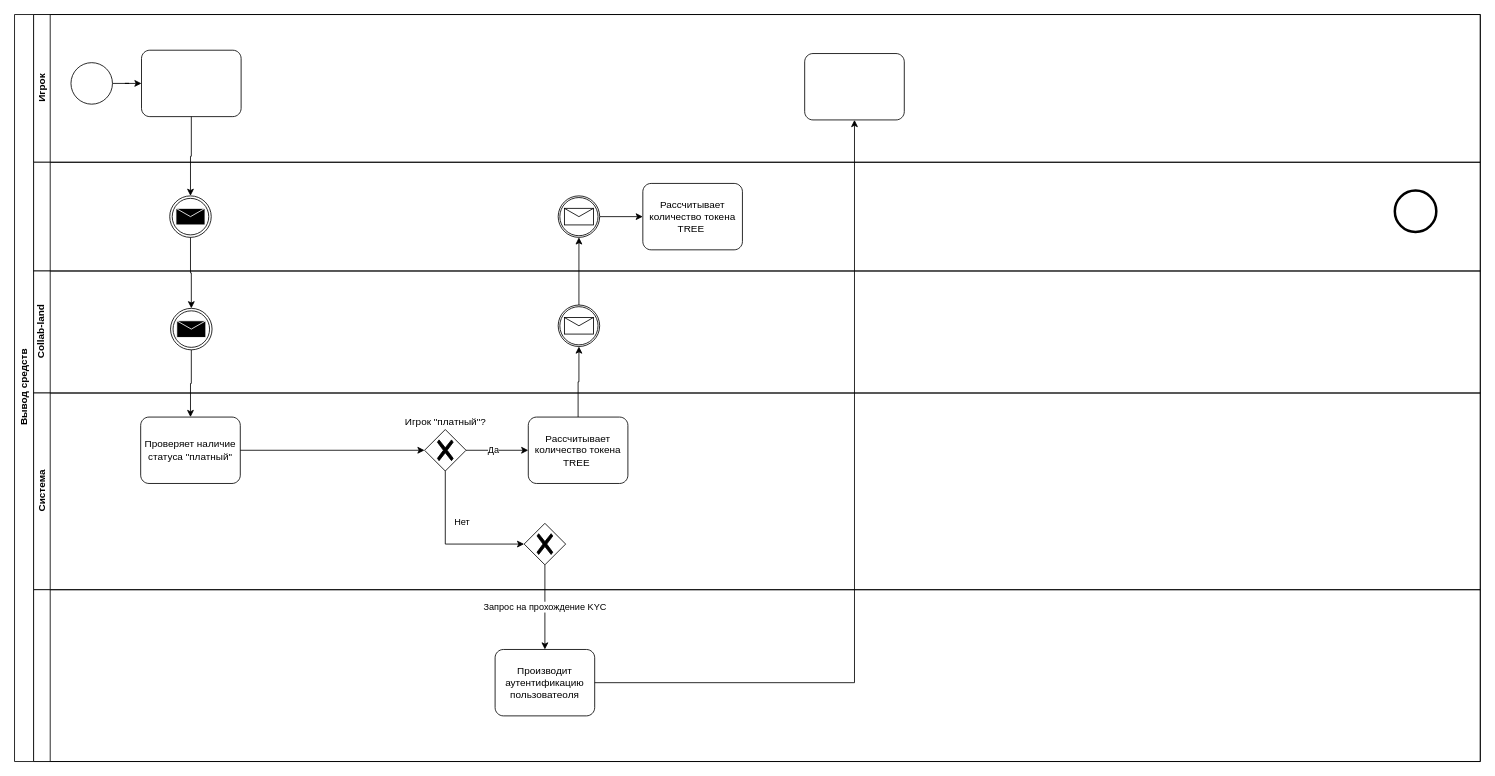
Some shapes in this 1495 by 776 pixel diagram are drawn without their labels. The shapes that lost their labels are listed below. From the top down, each one's box as (x1, y1, x2, y2) in pixels, then its label:
(141, 49, 241, 117): Инициирует вывод средств на рынке сбыта
(804, 53, 904, 120): Проходит регистрацию на сервисе KYC
(33, 161, 1480, 271): Смарт-контракт
(523, 522, 566, 565): Игрок проходил KYC?
(33, 589, 1480, 762): KYC-сервис
